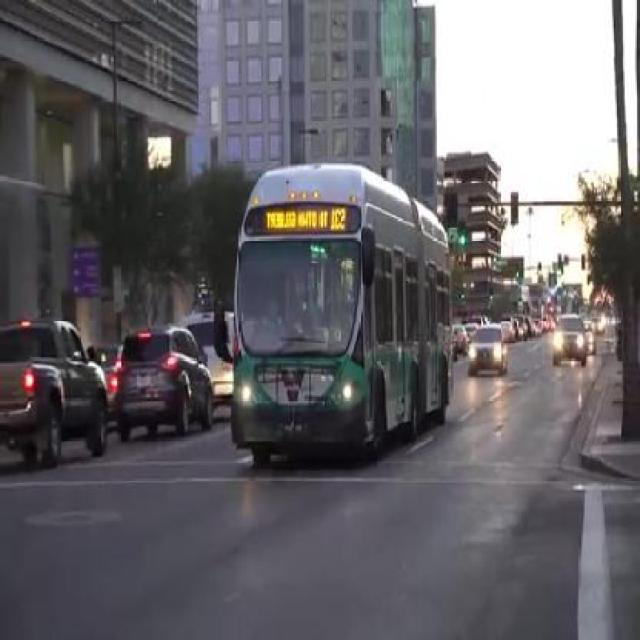bus: (233, 164, 453, 466)
car: (0, 320, 112, 459), (113, 323, 213, 435), (466, 327, 512, 381), (555, 316, 590, 367)
